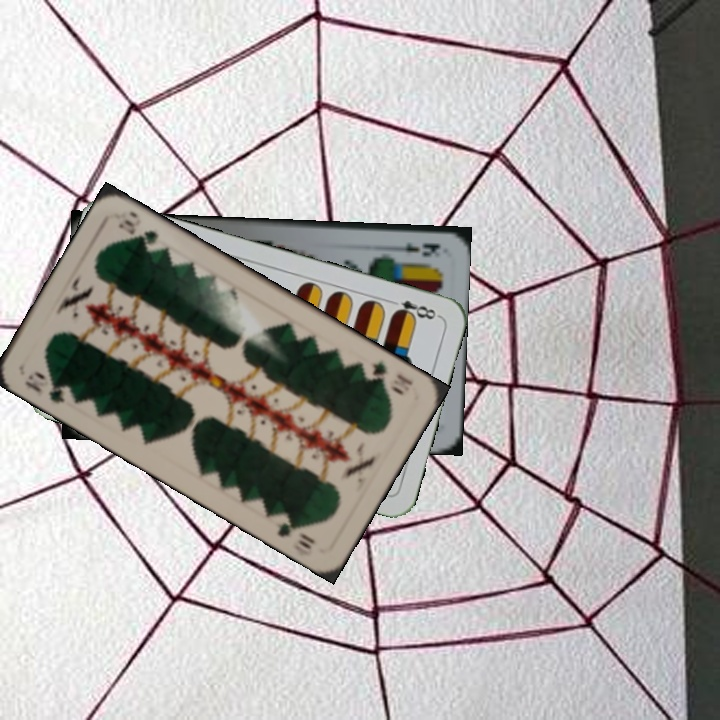E8: (384, 295, 442, 323)
EK: (385, 237, 443, 259)
G10: (20, 370, 68, 406), (368, 357, 416, 388)
